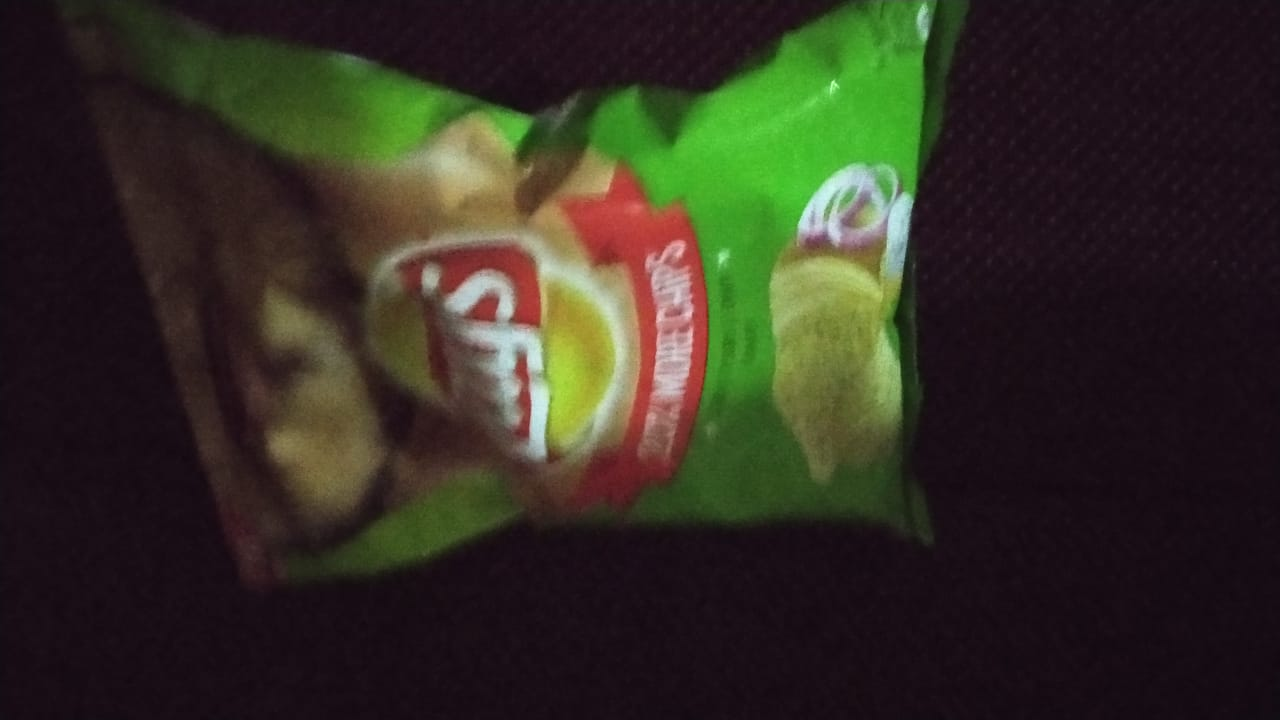lays chips: (206, 1, 975, 597)
